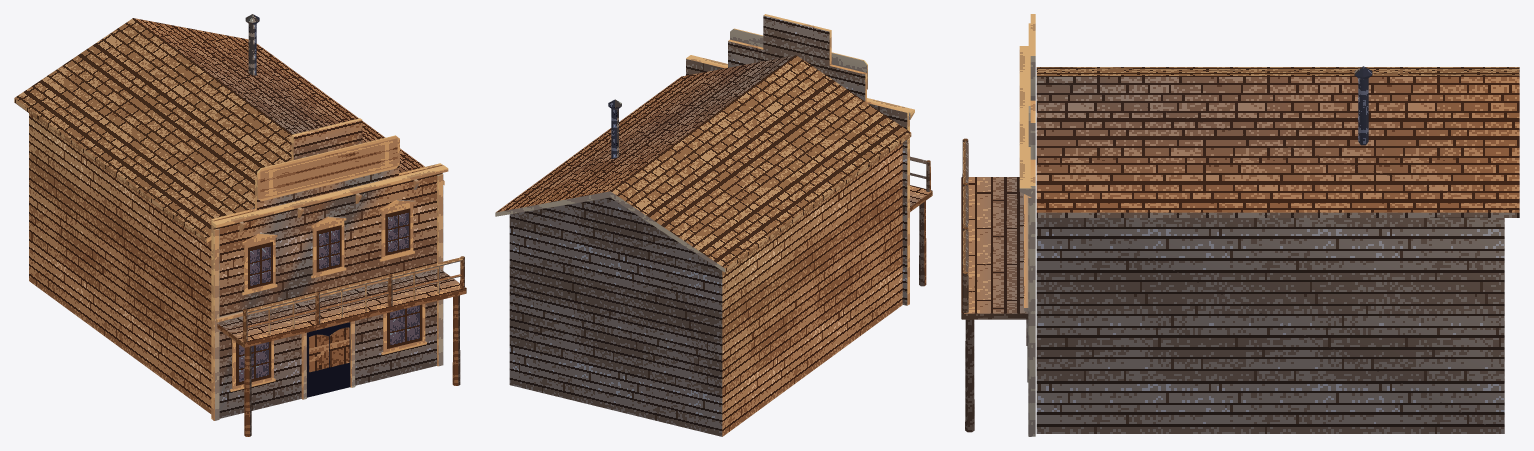
Rendered from wtown.saloon.glb.
3 renders of one model, left to right at view 1: azimuth 30°, elevation 25°; view 2: azimuth 150°, elevation 25°; view 3: azimuth 270°, elevation 25°, orthographic. The views are drawn at different scales.
Parts seen in each view (by area): view 1: kit_roof, kit_body, kit_front, kit_card_panes, kit_balcony, kit_trim, kit_windows, kit_door, kit_stovepipe; view 2: kit_body, kit_roof, kit_front, kit_trim, kit_balcony, kit_stovepipe; view 3: kit_body, kit_roof, kit_balcony, kit_trim, kit_front, kit_stovepipe.
Boxes of the visible parts, <box> form: kit_roof: <box>14,18,444,242</box>; kit_body: <box>29,113,399,413</box>; kit_front: <box>211,118,442,419</box>; kit_card_panes: <box>236,138,422,397</box>; kit_balcony: <box>217,256,466,436</box>; kit_trim: <box>211,135,448,420</box>; kit_windows: <box>230,199,426,391</box>; kit_door: <box>309,327,349,372</box>; kit_stovepipe: <box>245,14,259,75</box>; kit_body: <box>509,143,902,436</box>; kit_roof: <box>495,55,911,272</box>; kit_front: <box>686,14,909,305</box>; kit_trim: <box>686,28,914,304</box>; kit_balcony: <box>910,156,932,286</box>; kit_stovepipe: <box>608,99,621,158</box>; kit_body: <box>1036,218,1504,433</box>; kit_roof: <box>1036,67,1519,217</box>; kit_balcony: <box>961,138,1028,432</box>; kit_trim: <box>1019,23,1031,436</box>; kit_front: <box>1030,14,1035,436</box>; kit_stovepipe: <box>1354,66,1372,145</box>.
Bounding box in the file's own units: 8.1 × 8.7 × 13.12.
Materials: 12 (12 with a texture image).
